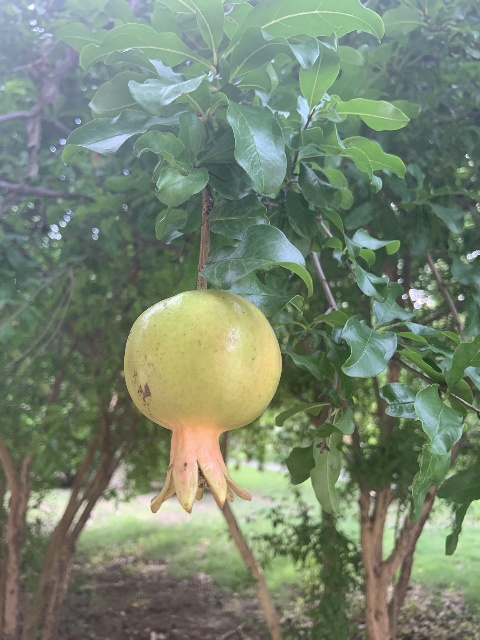mid-growth: (122, 288, 282, 515)
